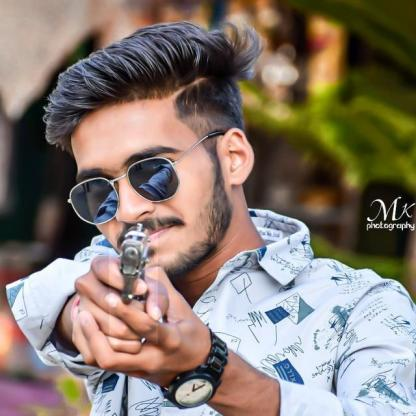handgun: (109, 220, 158, 309)
